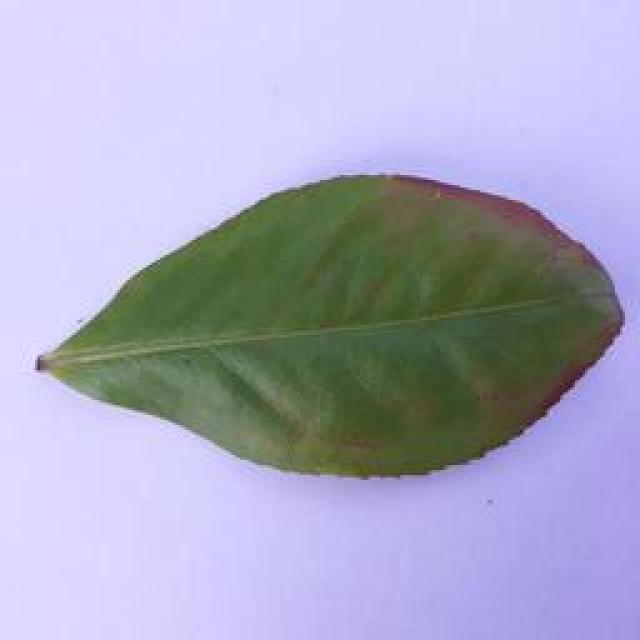Red Leaf Spot: (15, 160, 640, 490)
